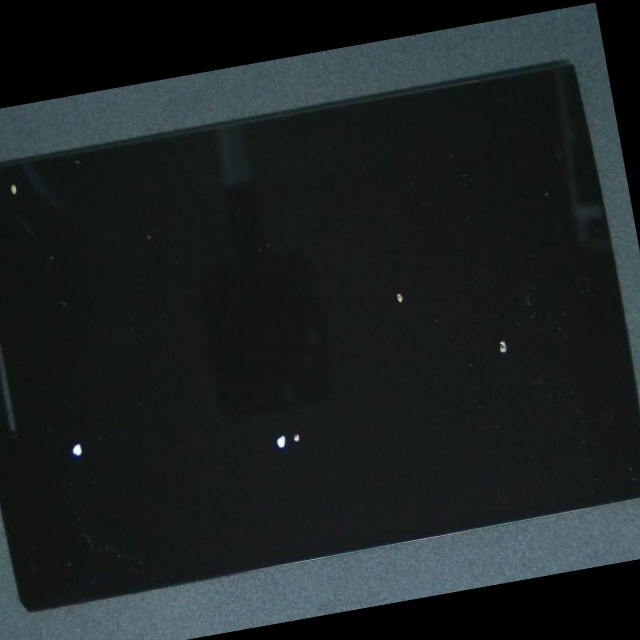stain: (132, 81, 638, 456), (204, 123, 640, 544), (136, 218, 496, 629), (11, 256, 173, 601), (0, 109, 50, 232)
